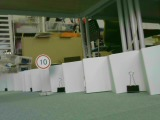speed_10: (35, 54, 51, 71)
